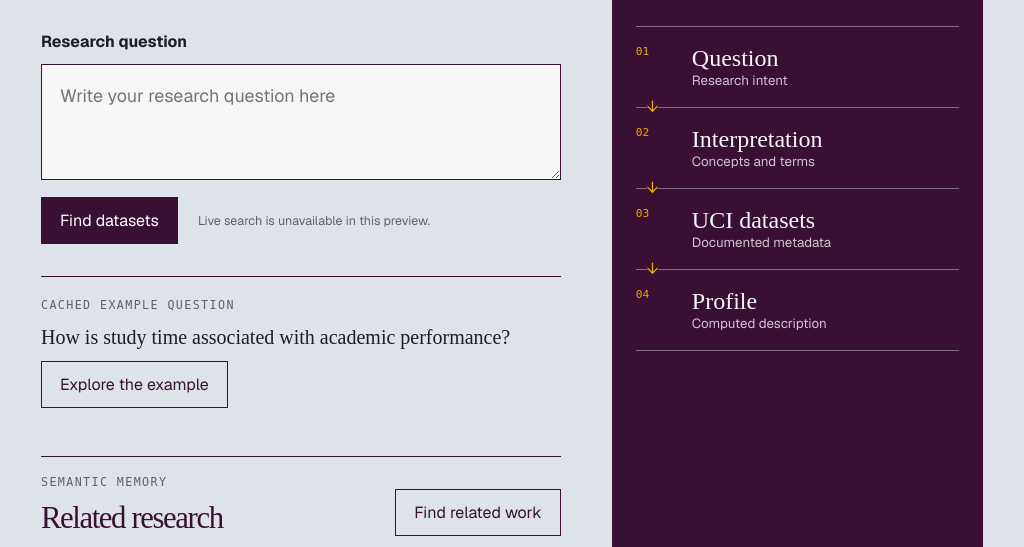
Test case: walks the cached example through all five stages without requests
The width and height of the screenshot is (1024, 547).
(page scrolled)
Click the button "Explore the example": coordinates (134, 385) [41,361,228,408]
(page scrolled)
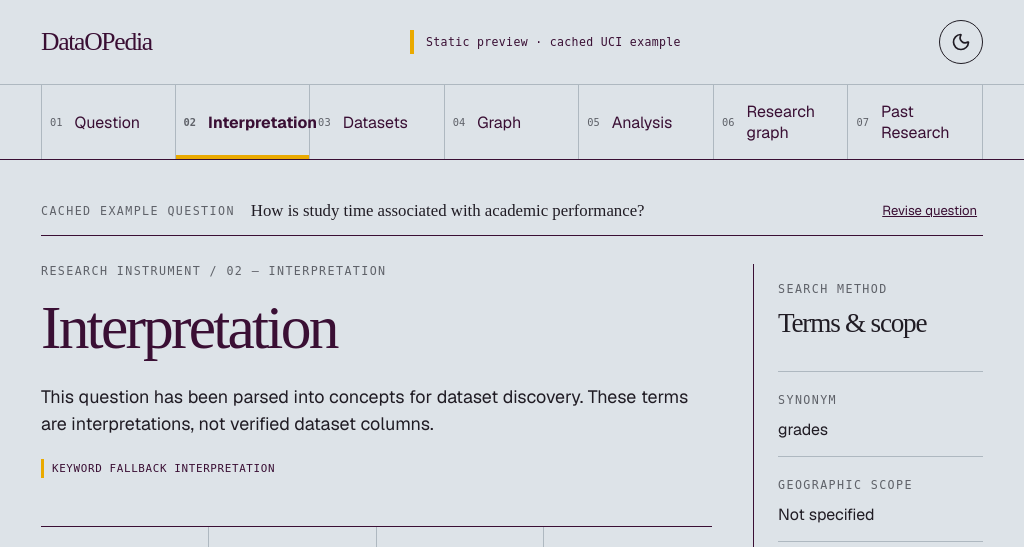
Expected: the text "Static preview · cached UCI example" is shown, [410,30,681,54]
Now the heading "Interpretation" is shown, box [41,293,337,361]
Now the text "How is study time associated with academic performance?" next to "Cached example question" is shown, box [251,201,645,220]
Click the button "03 Datasets": coordinates (377, 122) [310,85,445,159]
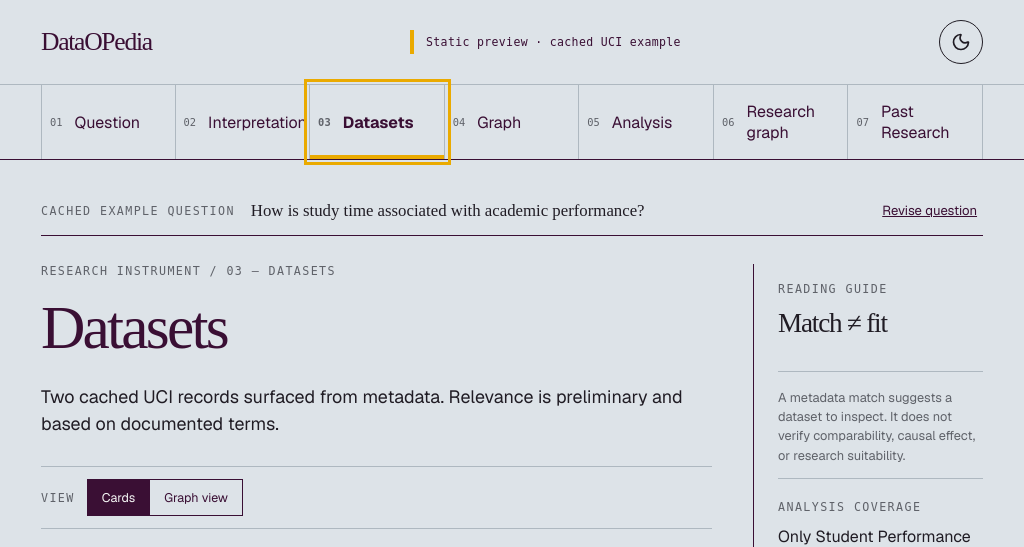
Expected: the text "Static preview · cached UCI example" is shown, [410,30,681,54]
Now the text "How is study time associated with academic performance?" is shown, box [251,201,645,220]
Now the heading "Datasets" is shown, box [41,293,227,361]
Click the button "04 Graph": coordinates (512, 122) [445,85,579,159]
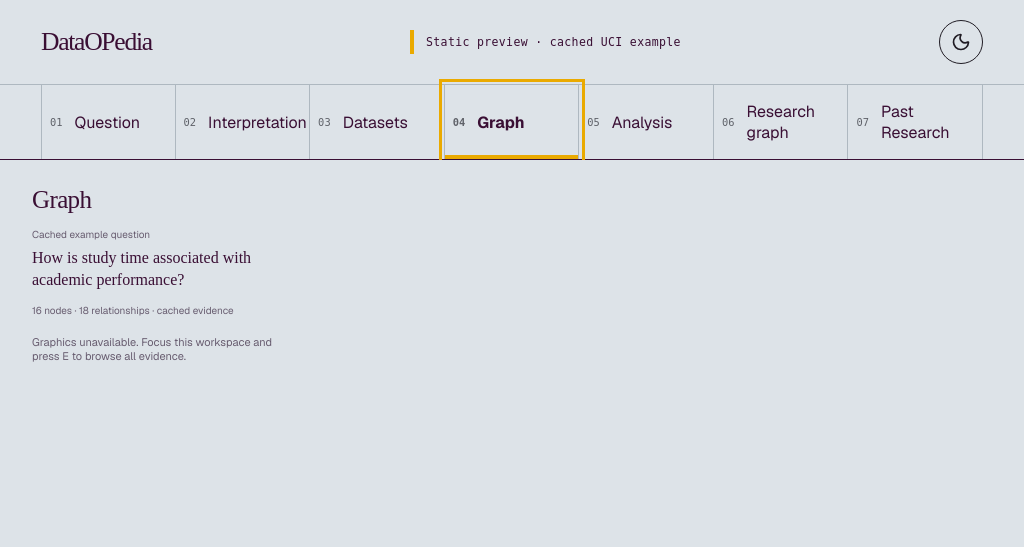
Expected: the text "Static preview · cached UCI example" is shown, [410,30,681,54]
Now the text "Cached example question" is shown, box [32,228,150,240]
Now the heading "Graph" is shown, box [32,186,91,213]
Click the button "05 Analysis": coordinates (647, 122) [579,85,714,159]
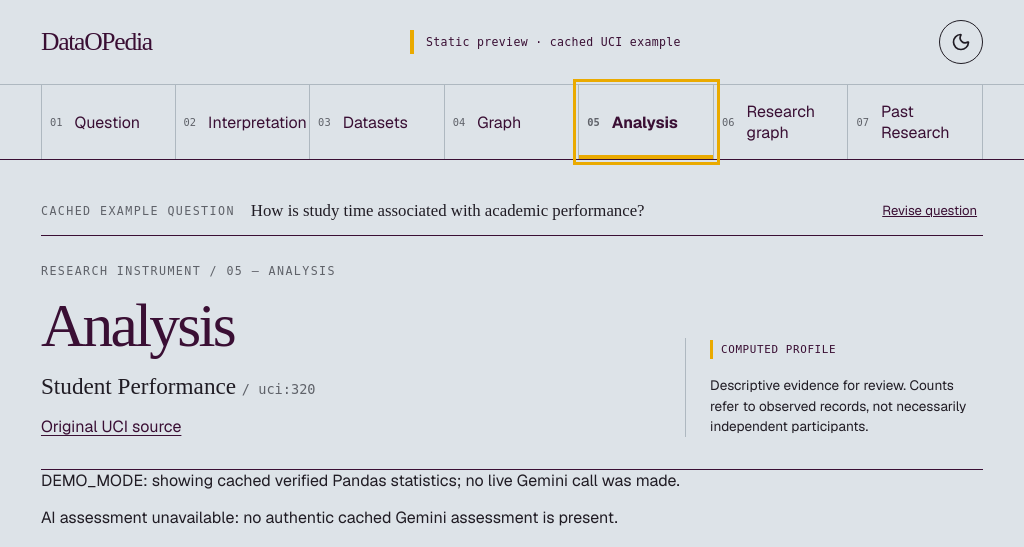
Expected: the text "Static preview · cached UCI example" is shown, [410,30,681,54]
Now the heading "Analysis" is shown, box [41,291,234,359]
